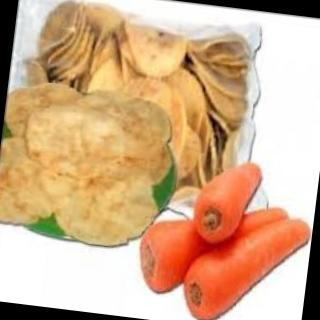Wortel: (177, 205, 312, 320), (189, 158, 267, 251)
